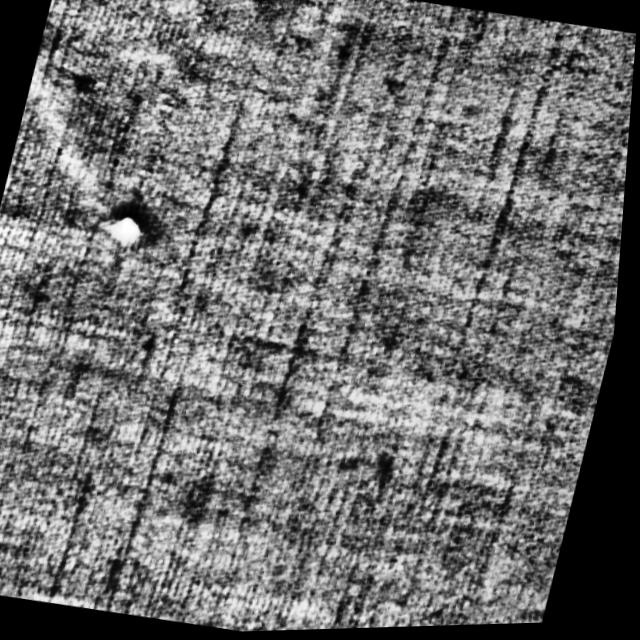Hole: (106, 209, 151, 249)
